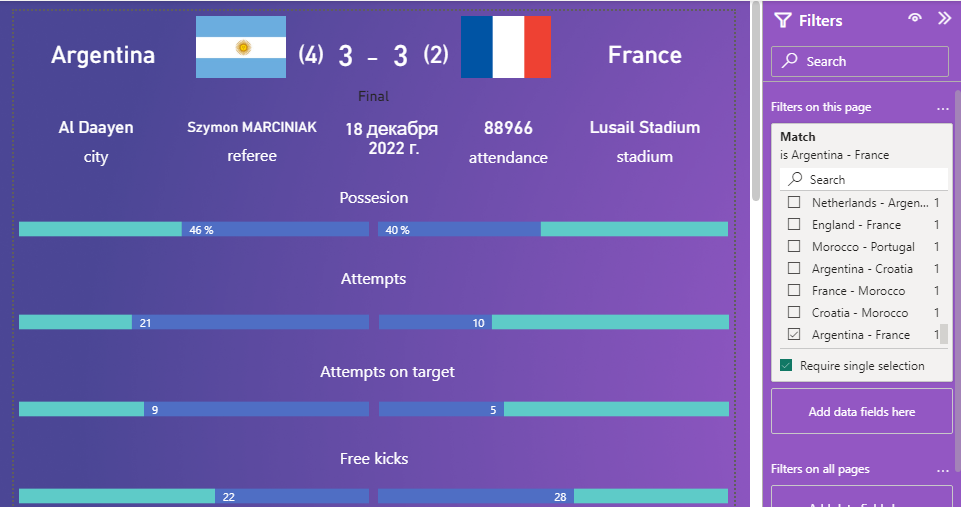

Layout of this report page (visuals, bound fields, positions):
{"tool":"powerbi","page":{"name":"Page 1","canvas":[720,1280],"ordinal":0},"visuals":[{"type":"card","fields":{"Values":["FIFA WORLD CUP QATAR 2022.team1"]},"box":[0,0,178,85],"z":0},{"type":"card","fields":{"Values":["FIFA WORLD CUP QATAR 2022.team2"]},"box":[1030.4,0,249.6,100.5],"z":1000},{"type":"card","box":[1065.5,442.3,214.5,150.8],"z":2000},{"type":"card","fields":{"Values":["FIFA WORLD CUP QATAR 2022.team1"]},"box":[787.4,303.2,264.7,150.8],"z":3000},{"type":"card","fields":{"Values":["FIFA WORLD CUP QATAR 2022.team1"]},"box":[774,470.8,264.7,150.8],"z":4000},{"type":"card","fields":{"Values":["FIFA WORLD CUP QATAR 2022.goal_total_team1"]},"box":[317,0,30,85],"z":5000},{"type":"card","fields":{"Values":["FIFA WORLD CUP QATAR 2022.goal_total_team2"]},"box":[372,0,30,85],"z":6000},{"type":"multiRowCard","fields":{"Values":["FIFA WORLD CUP QATAR 2022.flag_team1"]},"box":[177,0,100,85],"z":7000},{"type":"multiRowCard","fields":{"Values":["FIFA WORLD CUP QATAR 2022.flag_team2"]},"box":[826,0,152.5,103.9],"z":8000},{"type":"card","fields":{"Values":["FIFA WORLD CUP QATAR 2022.team2"]},"box":[542,0,178,85],"z":9000},{"type":"multiRowCard","fields":{"Values":["FIFA WORLD CUP QATAR 2022.flag_team2"]},"box":[442,0,100,85],"z":10000},{"type":"card","fields":{"Values":["FIFA WORLD CUP QATAR 2022.penalty_series_goals_team1"]},"box":[277,0,40,85],"z":11000},{"type":"card","fields":{"Values":["FIFA WORLD CUP QATAR 2022.penalty_series_goals_team2"]},"box":[402,0,40,85],"z":12000},{"type":"textbox","box":[347,14,25,58],"z":13000},{"type":"card","fields":{"Values":["FIFA WORLD CUP QATAR 2022.date"]},"box":[312,85,135,85],"z":14000},{"type":"card","fields":{"Values":["FIFA WORLD CUP QATAR 2022.city"]},"box":[0,85,164,85],"z":15000},{"type":"card","fields":{"Values":["FIFA WORLD CUP QATAR 2022.referee"]},"box":[164,85,148,85],"z":16000},{"type":"card","fields":{"Values":["FIFA WORLD CUP QATAR 2022.attendance"]},"box":[447,85,95,85],"z":17000},{"type":"card","fields":{"Values":["FIFA WORLD CUP QATAR 2022.stadium"]},"box":[542,85,178,85],"z":18000},{"type":"card","fields":{"Values":["FIFA WORLD CUP QATAR 2022.stage"]},"box":[277,68,165,36],"z":19000},{"type":"barChart","fields":{"Y":["FIFA WORLD CUP QATAR 2022.crosses_completed_team1","FIFA WORLD CUP QATAR 2022.attempts_total_team2"]},"box":[360,204,360,73],"z":20000},{"type":"barChart","fields":{"Y":["FIFA WORLD CUP QATAR 2022.attempts_total_team1"]},"box":[0,204,360,61],"z":21000},{"type":"textbox","box":[287,170,145,34],"z":22000},{"type":"textbox","box":[287,265,160,34],"z":23000},{"type":"barChart","fields":{"Y":["FIFA WORLD CUP QATAR 2022.attempts_on_target_team1"]},"box":[0,299,360,61],"z":24000},{"type":"barChart","fields":{"Y":["FIFA WORLD CUP QATAR 2022.attempts_on_target_team2"]},"box":[360,299,360,61],"z":25000},{"type":"textbox","box":[285,360,150,34],"z":26000},{"type":"barChart","fields":{"Y":["FIFA WORLD CUP QATAR 2022.penalties_scored_team1"]},"box":[0,394,360,61],"z":27000},{"type":"barChart","fields":{"Y":["FIFA WORLD CUP QATAR 2022.penalties_scored_team2"]},"box":[360,394,360,61],"z":28000},{"type":"textbox","box":[310,454,100,34],"z":29000},{"type":"barChart","fields":{"Y":["FIFA WORLD CUP QATAR 2022.corners_team1"]},"box":[0,488,360,61],"z":30000},{"type":"barChart","fields":{"Y":["FIFA WORLD CUP QATAR 2022.corners_team2"]},"box":[360,488,360,61],"z":31000},{"type":"textbox","box":[300,546,120,34],"z":32000},{"type":"barChart","fields":{"Y":["FIFA WORLD CUP QATAR 2022.free_kicks_team1"]},"box":[0,580,360,61],"z":33000},{"type":"barChart","fields":{"Y":["FIFA WORLD CUP QATAR 2022.free_kicks_team2"]},"box":[360,580,360,61],"z":34000},{"type":"textbox","box":[300,641,120,34],"z":35000},{"type":"barChart","fields":{"Y":["FIFA WORLD CUP QATAR 2022.passes_team1"]},"box":[0,675,360,61],"z":36000},{"type":"barChart","fields":{"Y":["FIFA WORLD CUP QATAR 2022.passes_team2"]},"box":[360,675,360,61],"z":37000},{"type":"textbox","box":[270,736,180,34],"z":38000},{"type":"barChart","fields":{"Y":["FIFA WORLD CUP QATAR 2022.passes_completed_team2"]},"box":[360,770,360,61],"z":39000},{"type":"barChart","fields":{"Y":["FIFA WORLD CUP QATAR 2022.passes_completed_team1"]},"box":[0,770,360,61],"z":40000}]}

Visuals, with their boxes on the page's 720x1280 design canvas (x1, y1, x2, y2). These are canvas units, not pixel positions in the 961x507 screenshot, which may show the page scaled, cropped or inside an application window:
card - FIFA WORLD CUP QATAR 2022.team1: box(0, 0, 178, 85)
card - FIFA WORLD CUP QATAR 2022.team2: box(1030, 0, 1280, 100)
card: box(1066, 442, 1280, 593)
card - FIFA WORLD CUP QATAR 2022.team1: box(787, 303, 1052, 454)
card - FIFA WORLD CUP QATAR 2022.team1: box(774, 471, 1039, 622)
card - FIFA WORLD CUP QATAR 2022.goal_total_team1: box(317, 0, 347, 85)
card - FIFA WORLD CUP QATAR 2022.goal_total_team2: box(372, 0, 402, 85)
multiRowCard - FIFA WORLD CUP QATAR 2022.flag_team1: box(177, 0, 277, 85)
multiRowCard - FIFA WORLD CUP QATAR 2022.flag_team2: box(826, 0, 978, 104)
card - FIFA WORLD CUP QATAR 2022.team2: box(542, 0, 720, 85)
multiRowCard - FIFA WORLD CUP QATAR 2022.flag_team2: box(442, 0, 542, 85)
card - FIFA WORLD CUP QATAR 2022.penalty_series_goals_team1: box(277, 0, 317, 85)
card - FIFA WORLD CUP QATAR 2022.penalty_series_goals_team2: box(402, 0, 442, 85)
textbox: box(347, 14, 372, 72)
card - FIFA WORLD CUP QATAR 2022.date: box(312, 85, 447, 170)
card - FIFA WORLD CUP QATAR 2022.city: box(0, 85, 164, 170)
card - FIFA WORLD CUP QATAR 2022.referee: box(164, 85, 312, 170)
card - FIFA WORLD CUP QATAR 2022.attendance: box(447, 85, 542, 170)
card - FIFA WORLD CUP QATAR 2022.stadium: box(542, 85, 720, 170)
card - FIFA WORLD CUP QATAR 2022.stage: box(277, 68, 442, 104)
barChart - FIFA WORLD CUP QATAR 2022.crosses_completed_team1 x FIFA WORLD CUP QATAR 2022.attempts_total_team2: box(360, 204, 720, 277)
barChart - FIFA WORLD CUP QATAR 2022.attempts_total_team1: box(0, 204, 360, 265)
textbox: box(287, 170, 432, 204)
textbox: box(287, 265, 447, 299)
barChart - FIFA WORLD CUP QATAR 2022.attempts_on_target_team1: box(0, 299, 360, 360)
barChart - FIFA WORLD CUP QATAR 2022.attempts_on_target_team2: box(360, 299, 720, 360)
textbox: box(285, 360, 435, 394)
barChart - FIFA WORLD CUP QATAR 2022.penalties_scored_team1: box(0, 394, 360, 455)
barChart - FIFA WORLD CUP QATAR 2022.penalties_scored_team2: box(360, 394, 720, 455)
textbox: box(310, 454, 410, 488)
barChart - FIFA WORLD CUP QATAR 2022.corners_team1: box(0, 488, 360, 549)
barChart - FIFA WORLD CUP QATAR 2022.corners_team2: box(360, 488, 720, 549)
textbox: box(300, 546, 420, 580)
barChart - FIFA WORLD CUP QATAR 2022.free_kicks_team1: box(0, 580, 360, 641)
barChart - FIFA WORLD CUP QATAR 2022.free_kicks_team2: box(360, 580, 720, 641)
textbox: box(300, 641, 420, 675)
barChart - FIFA WORLD CUP QATAR 2022.passes_team1: box(0, 675, 360, 736)
barChart - FIFA WORLD CUP QATAR 2022.passes_team2: box(360, 675, 720, 736)
textbox: box(270, 736, 450, 770)
barChart - FIFA WORLD CUP QATAR 2022.passes_completed_team2: box(360, 770, 720, 831)
barChart - FIFA WORLD CUP QATAR 2022.passes_completed_team1: box(0, 770, 360, 831)
